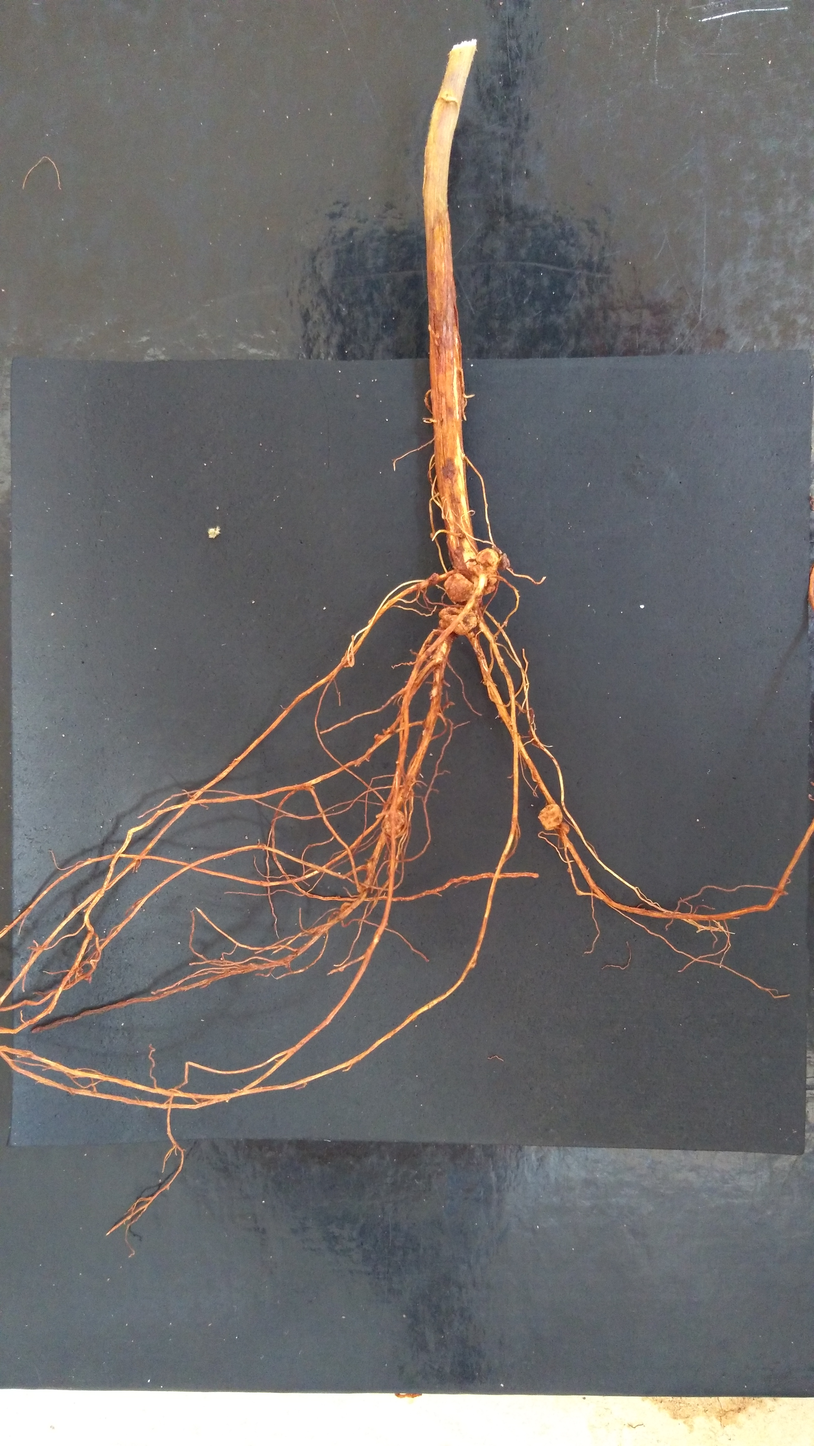nodule: (434, 605, 479, 639), (441, 572, 477, 604), (380, 808, 407, 840), (473, 545, 500, 577), (537, 803, 563, 831), (482, 583, 496, 597), (560, 821, 571, 836), (486, 573, 498, 586)
